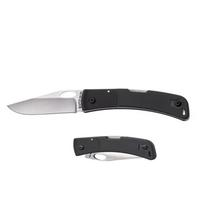knife: (7, 83, 194, 127), (65, 132, 162, 166)
